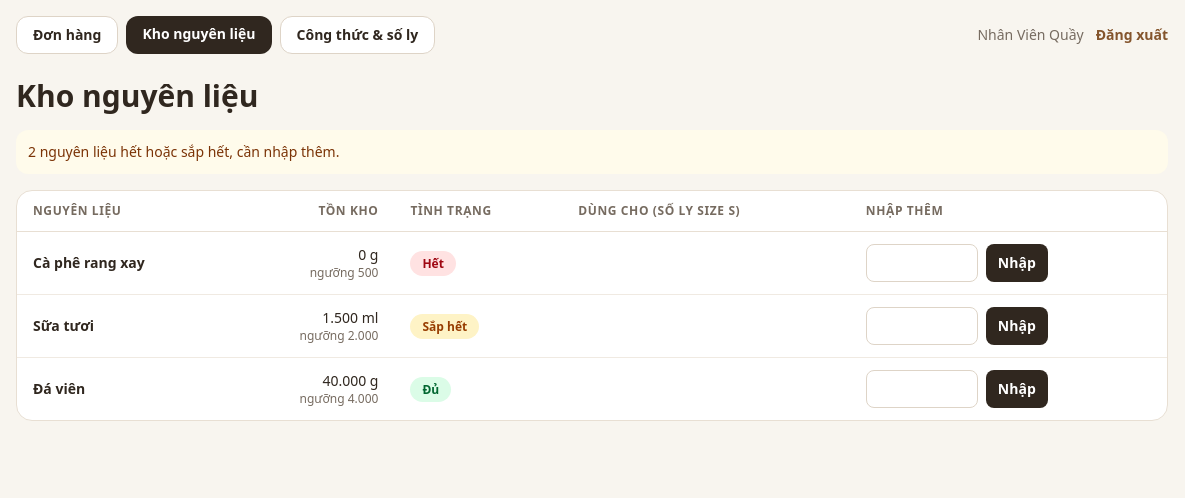
Trang kho nguyên liệu /staff/ingredients (FR-17) › số lượng không dương thì báo lỗi và không gọi API
Type "0" into the number field named "Số lượng nhập Cà phê rang xay" at x=922, y=263, box [866,244,978,282]
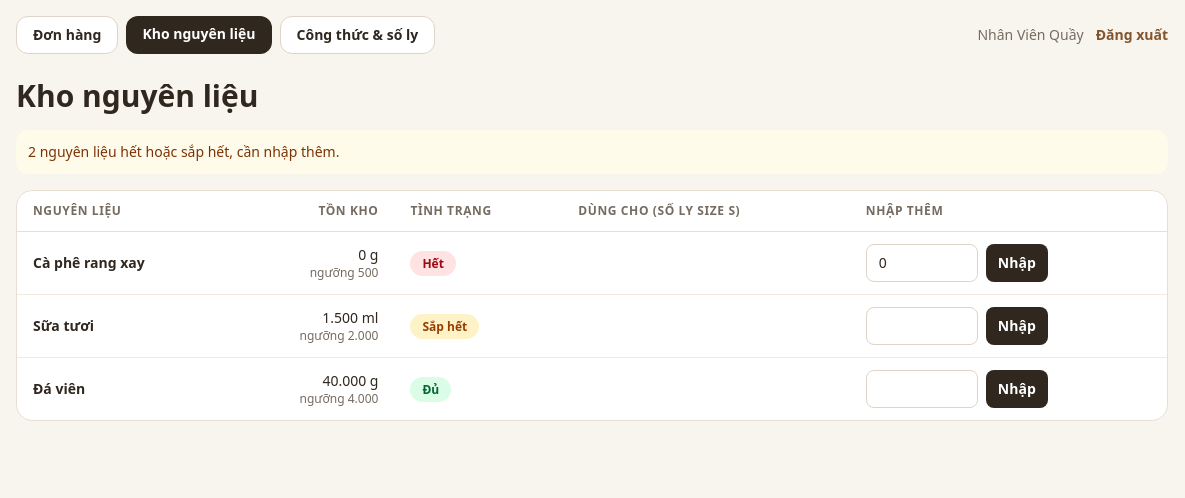
Click the button "Nhập" in the row of "Cà phê rang xay" at x=1017, y=263, box [986,244,1048,282]
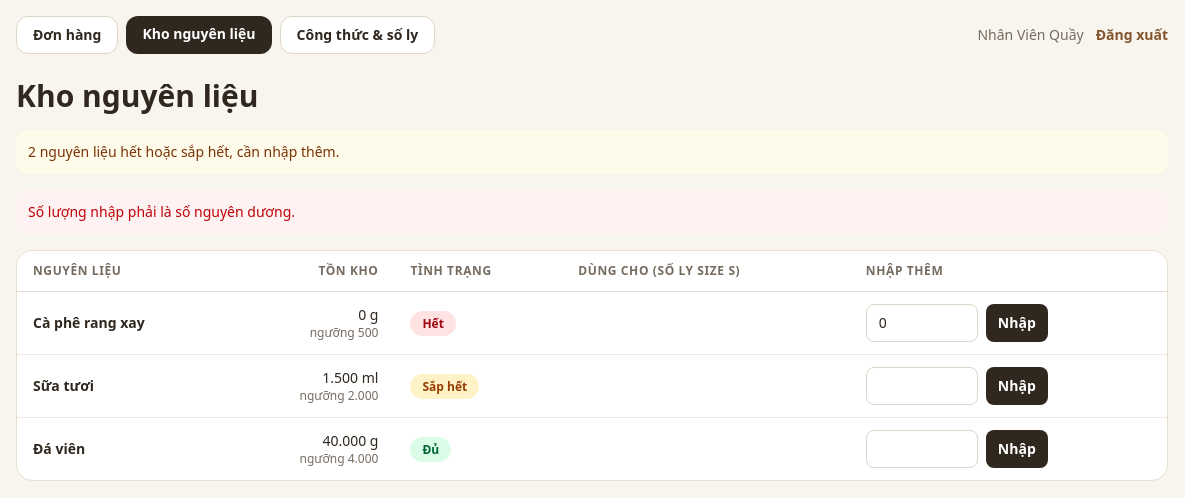
Expected: the message reads "Số lượng nhập phải là số nguyên dương.", [28,202,295,221]
